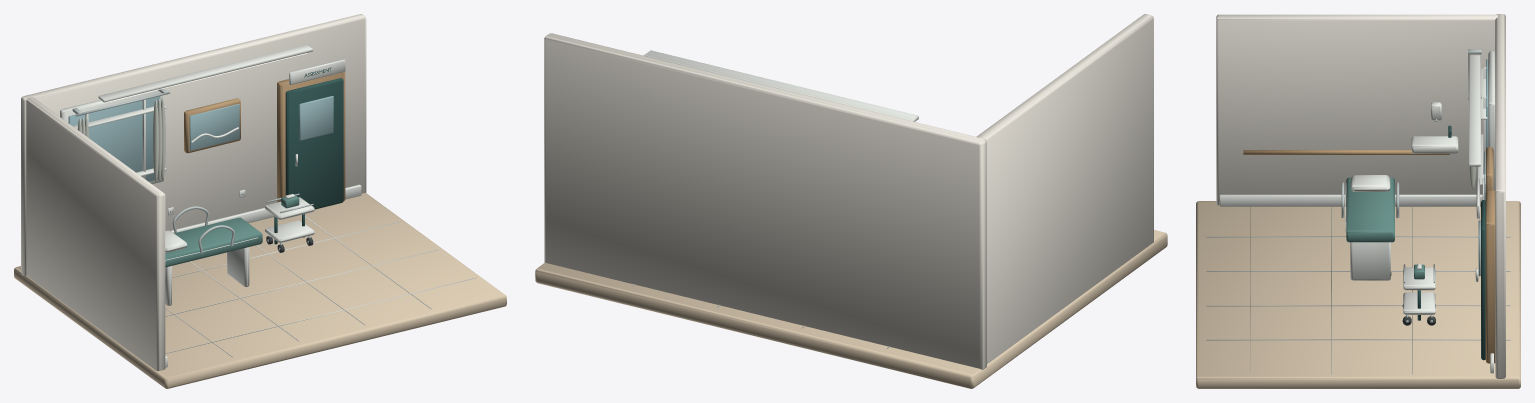
The model's file is assessment.glb.
The picture shows the model from 3 angles, left to right: view 1: azimuth 30°, elevation 25°; view 2: azimuth 150°, elevation 25°; view 3: azimuth 270°, elevation 25°; orthographic projection. The views are drawn at different scales.
Parts seen in each view (by area): view 1: Floor, RearWall, SideWall, Door, Window, ExaminationBed, LightHousing, DoorFrame, SeaPanel, VisionPanel, RearSkirting, CoastalArtFrame (+7 smaller); view 2: RearWall, SideWall, Floor, LightHousing; view 3: Floor, SideWall, RearWall, SideSkirting, ExaminationBed, DoorFrame, BedSupport.001, LightHousing, WallHandrail, WindowFrame, Sink, Door (+7 smaller).
Part boxes in pixels (left/top/right/bottom): Floor: left=14, top=193, right=506, bottom=388; RearWall: left=21, top=14, right=366, bottom=276; SideWall: left=26, top=97, right=165, bottom=371; Door: left=285, top=78, right=343, bottom=209; Window: left=68, top=96, right=160, bottom=181; ExaminationBed: left=165, top=217, right=262, bottom=267; LightHousing: left=98, top=45, right=312, bottom=102; DoorFrame: left=277, top=71, right=345, bottom=202; SeaPanel: left=189, top=104, right=239, bottom=150; VisionPanel: left=299, top=96, right=333, bottom=140; RearSkirting: left=171, top=184, right=361, bottom=232; CoastalArtFrame: left=184, top=98, right=240, bottom=153; RearWall: left=544, top=33, right=986, bottom=369; SideWall: left=976, top=14, right=1153, bottom=363; Floor: left=535, top=230, right=1167, bottom=388; LightHousing: left=644, top=50, right=918, bottom=121; Floor: left=1196, top=201, right=1520, bottom=388; SideWall: left=1216, top=14, right=1497, bottom=205; RearWall: left=1495, top=14, right=1505, bottom=378; SideSkirting: left=1219, top=194, right=1482, bottom=206; ExaminationBed: left=1346, top=177, right=1394, bottom=242; DoorFrame: left=1485, top=190, right=1495, bottom=363; BedSupport.001: left=1350, top=242, right=1390, bottom=280; LightHousing: left=1469, top=55, right=1480, bottom=166; WallHandrail: left=1243, top=150, right=1449, bottom=154; WindowFrame: left=1488, top=51, right=1495, bottom=190; Sink: left=1411, top=136, right=1458, bottom=153; Door: left=1481, top=200, right=1485, bottom=360.
Bounding box in the file's own units: 6.2 × 3.25 × 4.8.
